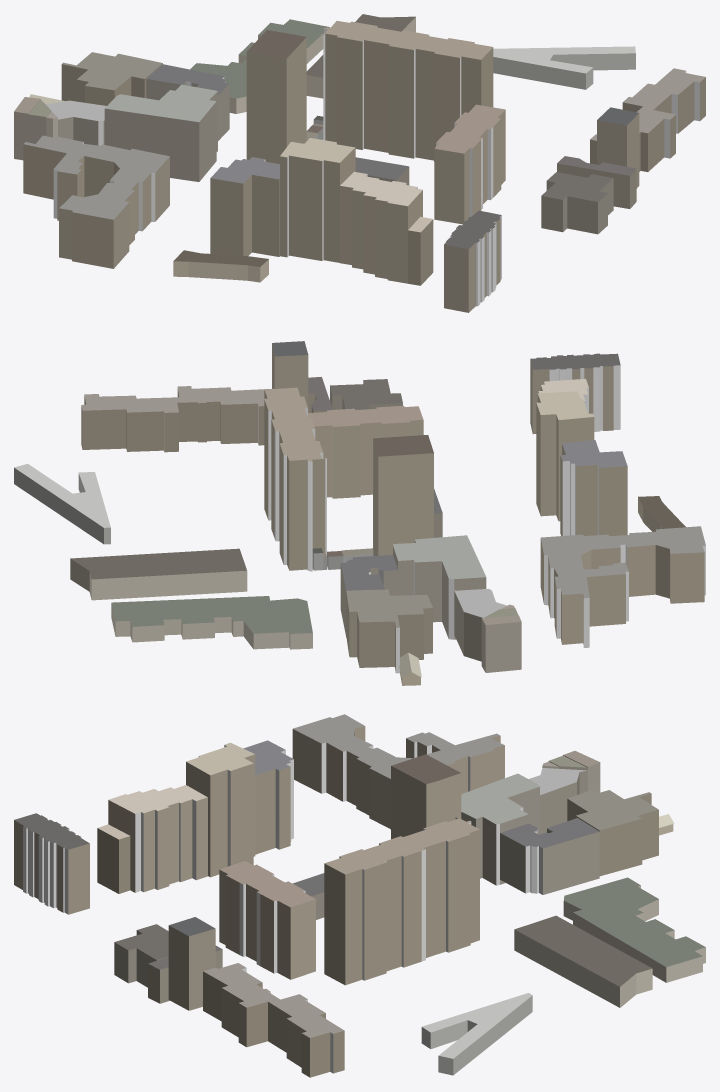
3 views of the same model, one above another, from view 1: azimuth 30°, elevation 25°; view 2: azimuth 150°, elevation 25°; view 3: azimuth 270°, elevation 25° (orthographic). The views are drawn at different scales.
Parts seen in each view (by area): view 1: tuile; view 2: tuile; view 3: tuile.
Part boxes in pixels (x1,y1,x2,y2): tuile: (14, 14, 705, 312); tuile: (14, 341, 705, 685); tuile: (14, 714, 705, 1077).
Bounding box in the file's own units: 291 × 56.15 × 272.
